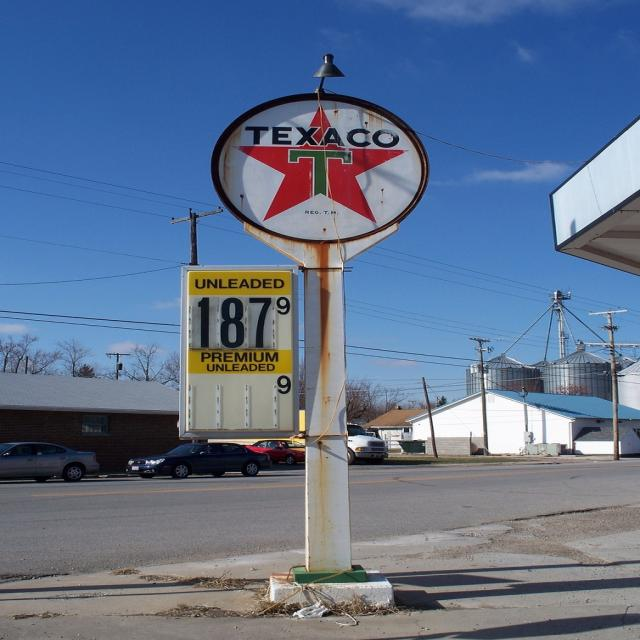texaco: (218, 98, 427, 242)
